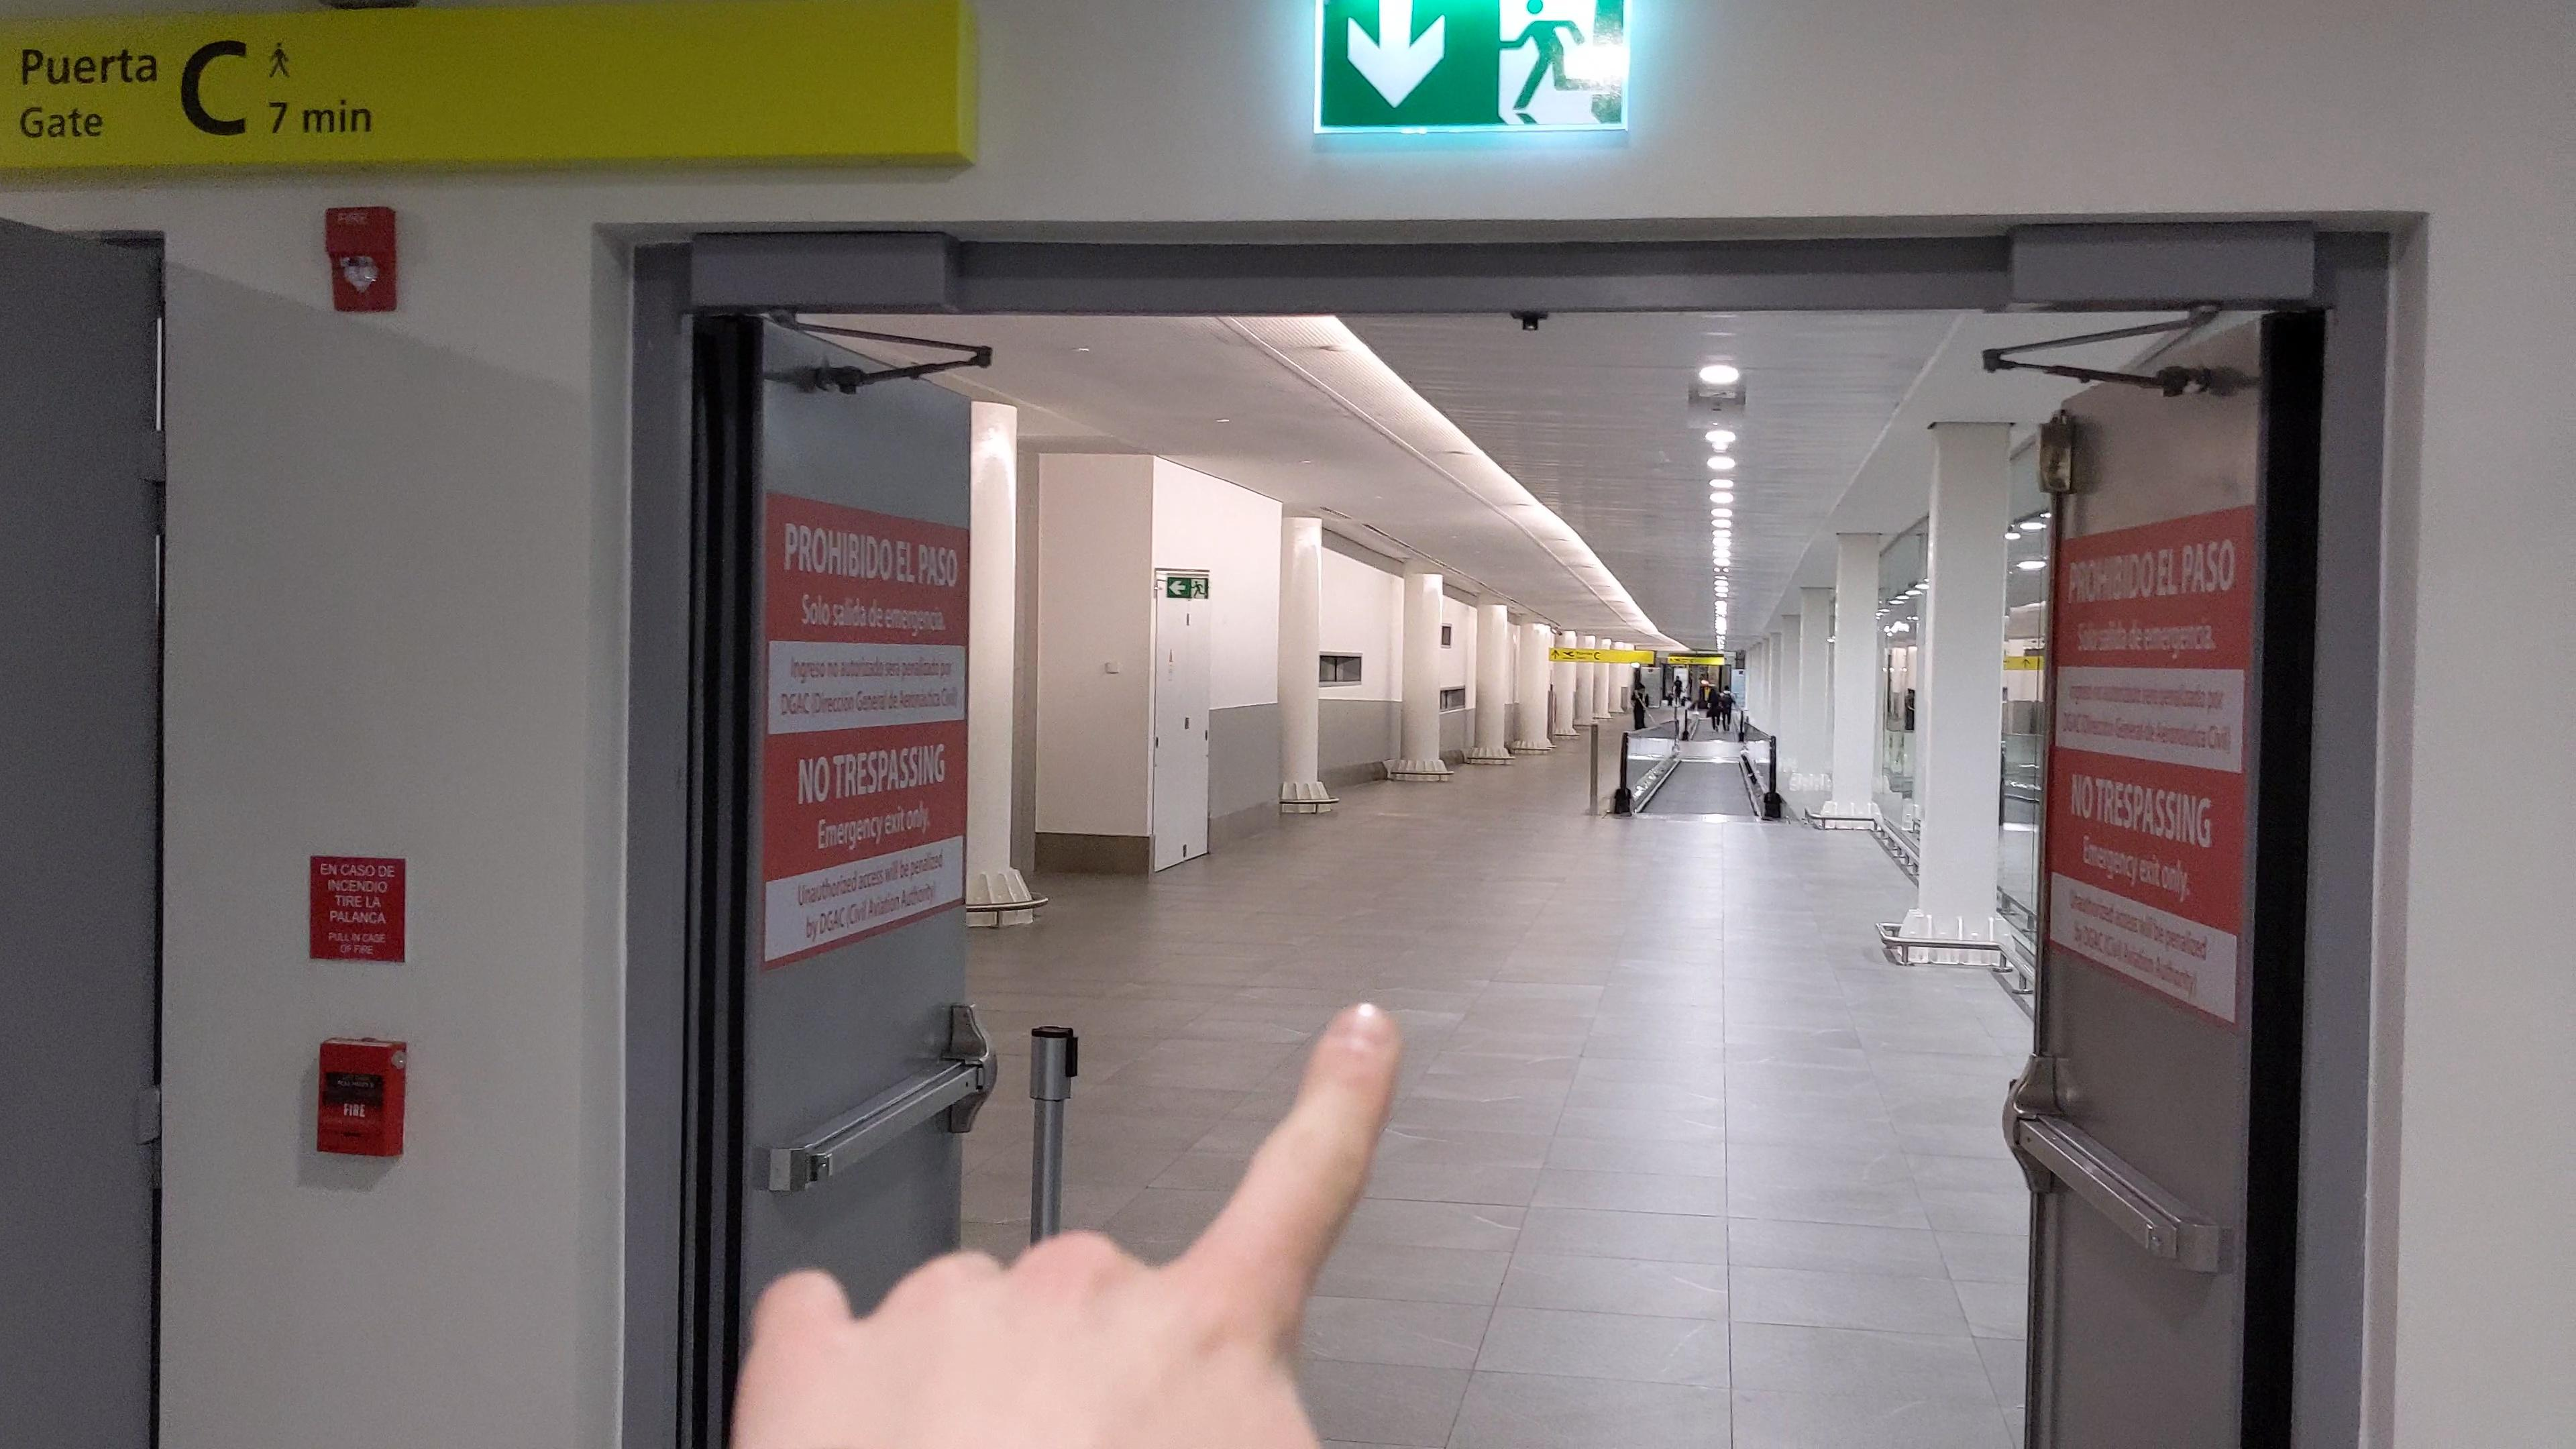airplane symbol: (1562, 650, 1575, 657)
emergency down arrow: (1341, 0, 1454, 113)
emergency exit: (1493, 0, 1601, 132), (1189, 578, 1207, 598)
emergency left arrow: (1168, 580, 1187, 596)
no trespassing: (2046, 502, 2260, 1038), (762, 477, 967, 981)
thin up arrow: (2020, 658, 2031, 669), (1550, 649, 1560, 660)
